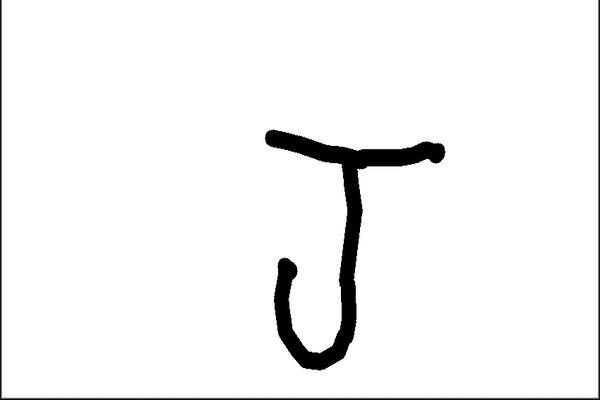J: (256, 121, 449, 375)
